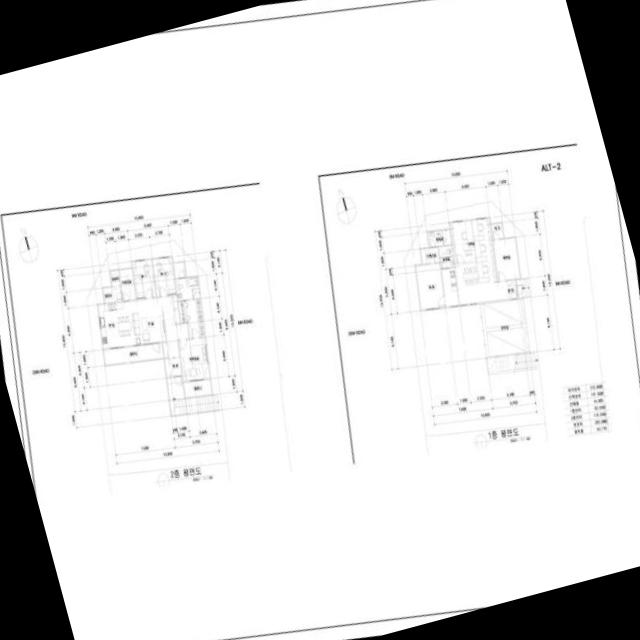background: (0, 0, 640, 640)
space_balconi: (104, 343, 163, 364), (103, 270, 122, 302), (183, 379, 211, 397)
space_bedroom: (178, 337, 209, 381), (416, 263, 445, 309), (132, 259, 156, 299), (152, 257, 176, 296)
space_dressroom: (178, 299, 204, 337), (420, 247, 439, 264)
space_front: (162, 340, 181, 376), (507, 280, 517, 298)
space_kitchen: (98, 301, 134, 348), (441, 268, 458, 306)
space_living_room: (129, 295, 188, 344)
space_multipurpose_space: (119, 268, 135, 300)
space_other: (449, 218, 509, 304), (493, 238, 519, 280), (167, 376, 184, 400), (491, 223, 503, 239), (173, 262, 185, 278)
space_staircase: (170, 394, 219, 415), (516, 278, 530, 297)
space_toilet: (175, 276, 200, 300), (427, 230, 443, 246), (438, 245, 452, 257), (440, 256, 454, 268), (442, 229, 451, 245)
